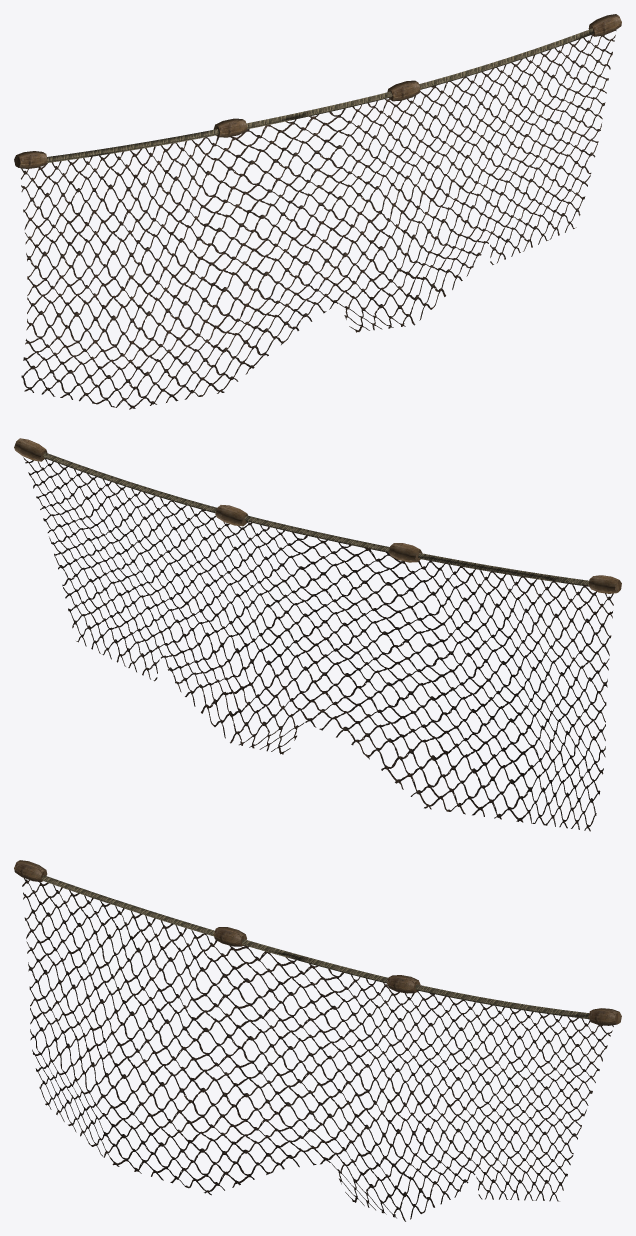
Rendered from fishing_net_hanging_flat_short.FBX.
The picture shows the model from 3 angles, top to bottom: view 1: azimuth 30°, elevation 25°; view 2: azimuth 150°, elevation 25°; view 3: azimuth 330°, elevation 25°; orthographic projection.
Visible parts, largest first — view 1: fishing_net_hanging_flat_short; view 2: fishing_net_hanging_flat_short; view 3: fishing_net_hanging_flat_short.
Boxes of the visible parts, x1,y1,x2,y2 form: fishing_net_hanging_flat_short: (14,14,621,409); fishing_net_hanging_flat_short: (14,438,621,831); fishing_net_hanging_flat_short: (14,860,621,1221).
Size of the model in its own units: 121 by 9 by 53.99.
